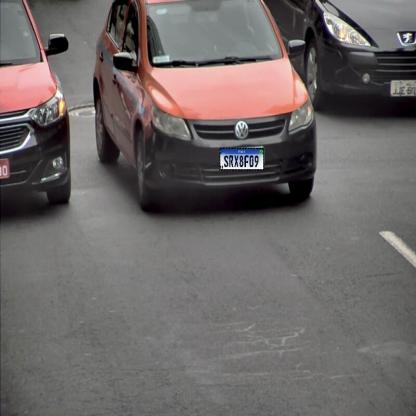PlacaM: (220, 147, 264, 170)
